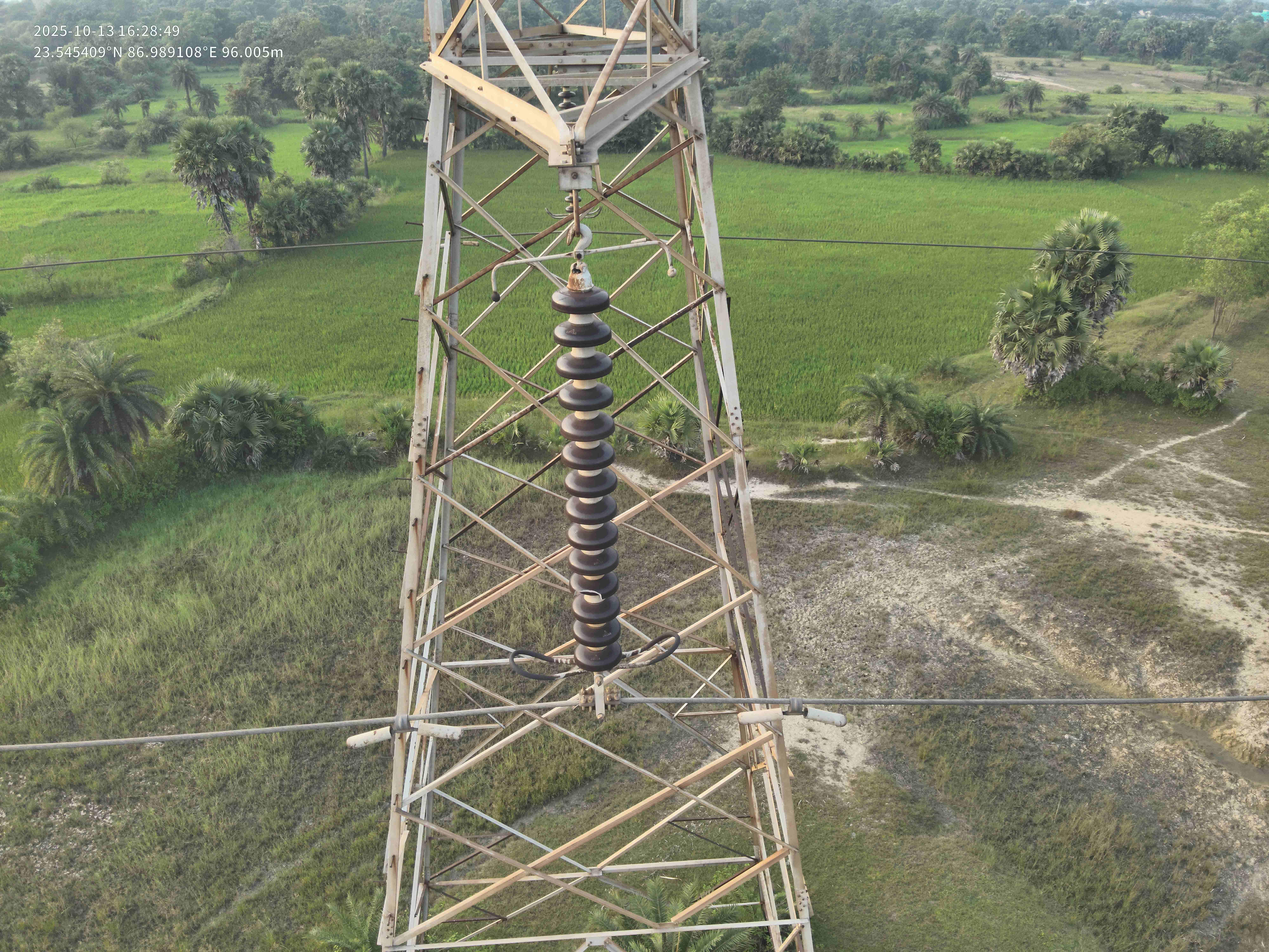broken_insulator: (569, 574, 619, 600)
